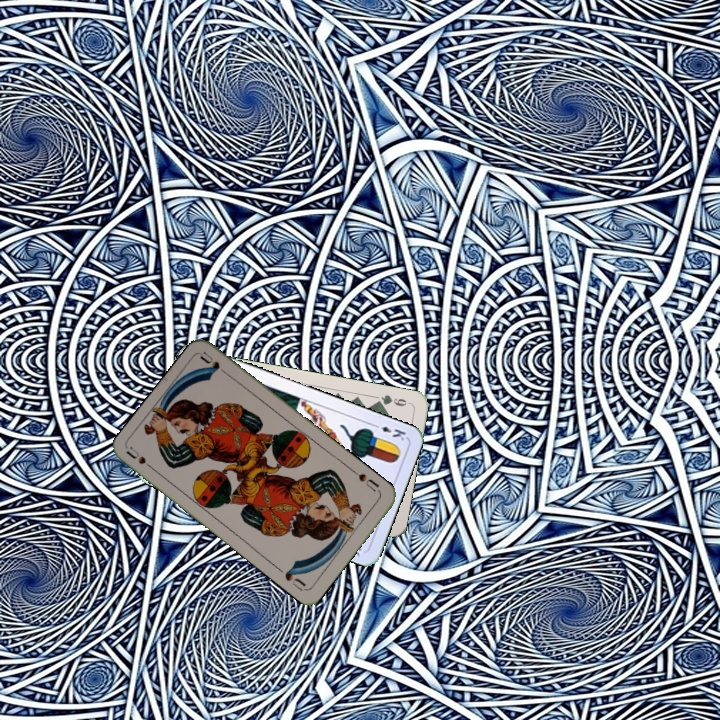EK: (369, 419, 409, 443)
G9: (371, 390, 413, 409)
SU: (123, 443, 160, 475), (349, 466, 383, 496)
